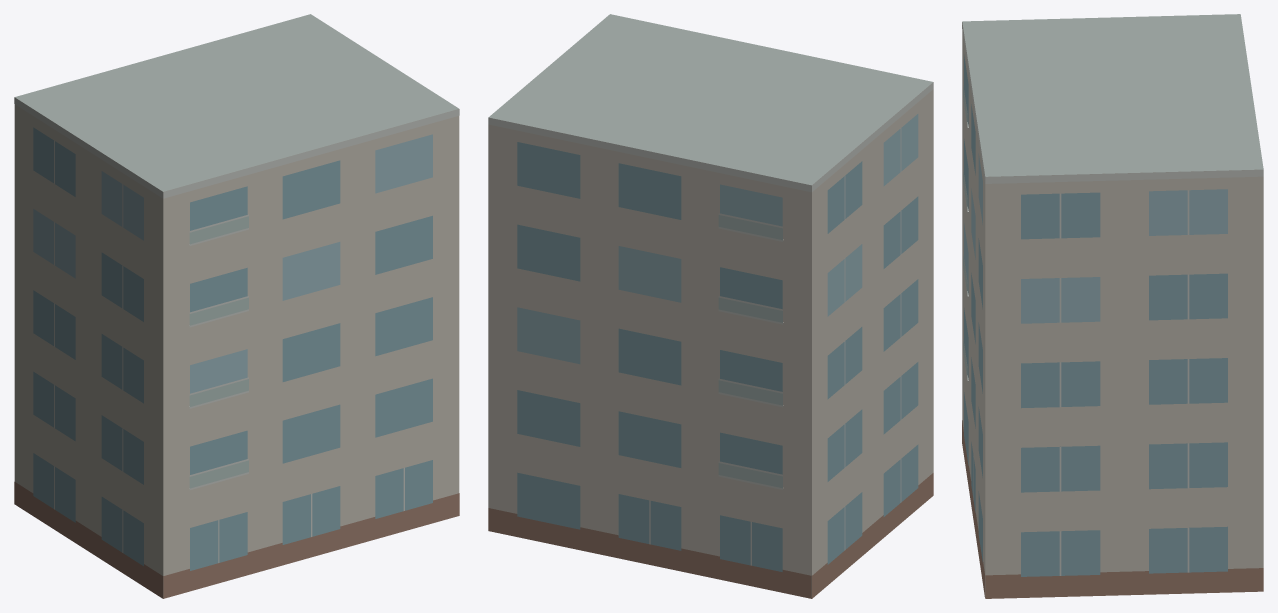
File: survey-upis-32877356.glb
The picture shows the model from 3 angles, left to right: view 1: azimuth 30°, elevation 25°; view 2: azimuth 150°, elevation 25°; view 3: azimuth 270°, elevation 25°; orthographic projection. The views are drawn at different scales.
Parts seen in each view (by area): view 1: survey-upis-32877356.tmp; view 2: survey-upis-32877356.tmp; view 3: survey-upis-32877356.tmp.
Boxes of the visible parts, bbox=[...] form: survey-upis-32877356.tmp: bbox=[14, 14, 459, 598]; survey-upis-32877356.tmp: bbox=[488, 14, 933, 598]; survey-upis-32877356.tmp: bbox=[962, 14, 1263, 598].
Bounding box in the file's own units: 11.97 × 14.45 × 9.37.
